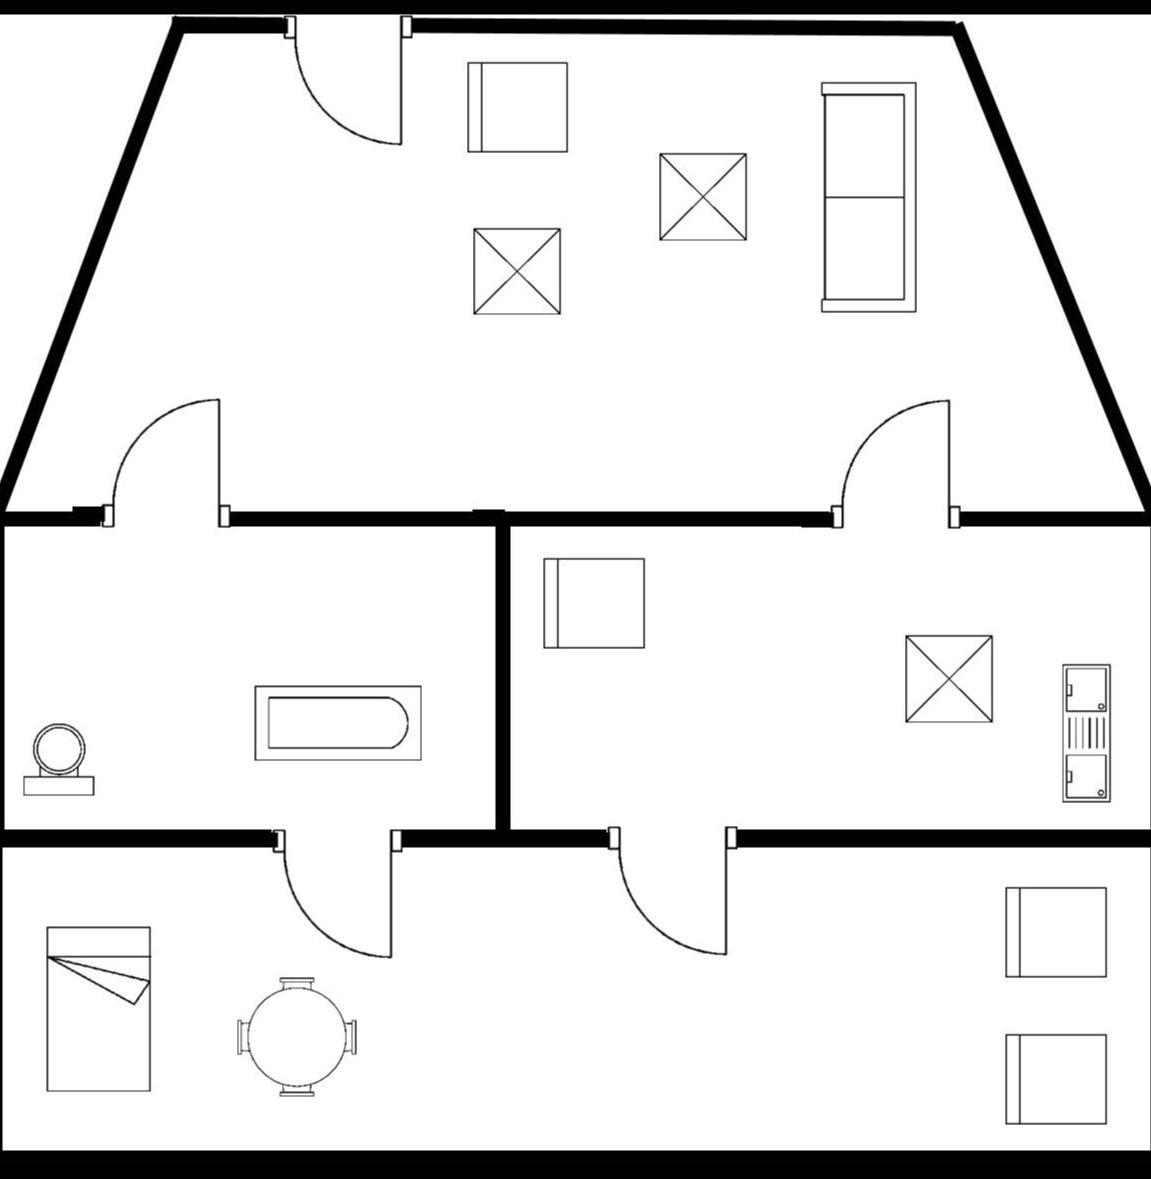sink: (1053, 652, 1118, 813)
